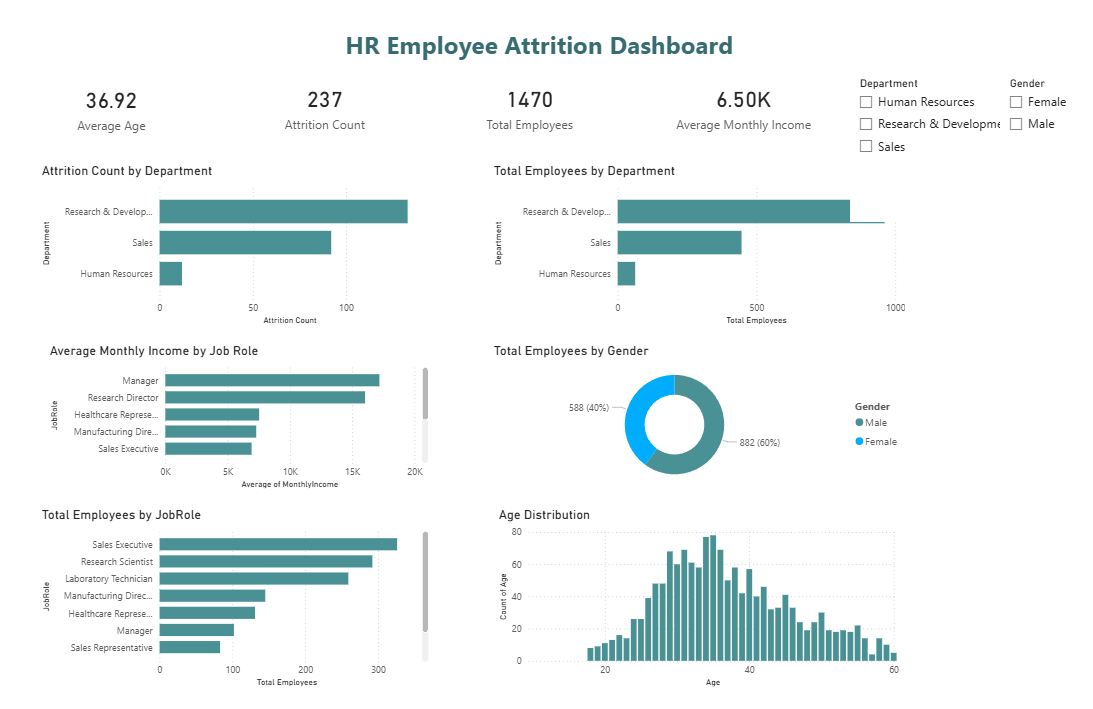

Layout of this report page (visuals, bound fields, positions):
{"tool":"powerbi","page":{"name":"Page 1","canvas":[1600,1100],"ordinal":0},"visuals":[{"type":"card","fields":{"Values":["WA_Fn-UseC_-HR-Employee-Attrition.Average Age"]},"box":[8.9,0,280,280],"z":0},{"type":"card","fields":{"Values":["WA_Fn-UseC_-HR-Employee-Attrition.Total Employees"]},"box":[559.6,0,280.9,279.8],"z":1000},{"type":"card","fields":{"Values":["WA_Fn-UseC_-HR-Employee-Attrition.Attrition Count"]},"box":[289.4,64.9,280.9,150],"z":2000},{"type":"card","fields":{"Values":["WA_Fn-UseC_-HR-Employee-Attrition.Average Monthly Income"]},"box":[840.4,64.9,280.9,150],"z":3000},{"type":"clusteredBarChart","fields":{"Category":["WA_Fn-UseC_-HR-Employee-Attrition.Department"],"Y":["WA_Fn-UseC_-HR-Employee-Attrition.Total Employees"]},"box":[647.1,214.3,551.4,217.1],"z":4000},{"type":"clusteredBarChart","fields":{"Category":["WA_Fn-UseC_-HR-Employee-Attrition.Department"],"Y":["WA_Fn-UseC_-HR-Employee-Attrition.Attrition Count"]},"box":[52.9,214.3,518.6,217.1],"z":5000},{"type":"clusteredBarChart","title":"Average  Monthly Income by Job Role","fields":{"Category":["WA_Fn-UseC_-HR-Employee-Attrition.JobRole"],"Y":["Avg(WA_Fn-UseC_-HR-Employee-Attrition.MonthlyIncome)"]},"box":[63.2,451.3,507.9,196.1],"z":6000},{"type":"donutChart","fields":{"Category":["WA_Fn-UseC_-HR-Employee-Attrition.Gender"],"Y":["WA_Fn-UseC_-HR-Employee-Attrition.Total Employees"]},"box":[647.1,451.4,551.4,195.7],"z":7000},{"type":"columnChart","title":"Age Distribution","fields":{"Y":["CountNonNull(WA_Fn-UseC_-HR-Employee-Attrition.Age)"],"Category":["WA_Fn-UseC_-HR-Employee-Attrition.Age"]},"box":[654.3,667.1,537.1,241.4],"z":8000},{"type":"clusteredBarChart","fields":{"Category":["WA_Fn-UseC_-HR-Employee-Attrition.JobRole"],"Y":["WA_Fn-UseC_-HR-Employee-Attrition.Total Employees"]},"box":[52.9,667.1,518.6,241.4],"z":9000},{"type":"textbox","box":[321.1,31.6,651.3,64.5],"z":10000},{"type":"textbox","box":[1131.1,215.6,281.1,74.4],"z":11000},{"type":"slicer","fields":{"Values":["WA_Fn-UseC_-HR-Employee-Attrition.Department"]},"box":[1121.1,96.1,281.6,196.1],"z":11001},{"type":"slicer","fields":{"Values":["WA_Fn-UseC_-HR-Employee-Attrition.Gender"]},"box":[1318.4,96.1,281.6,197.4],"z":11002}]}

Visuals, with their boxes on the page's 1600x1100 design canvas (x1, y1, x2, y2). These are canvas units, not pixel positions in the 1093x709 screenshot, which may show the page scaled, cropped or inside an application window:
card - WA_Fn-UseC_-HR-Employee-Attrition.Average Age: Rect(9, 0, 289, 280)
card - WA_Fn-UseC_-HR-Employee-Attrition.Total Employees: Rect(560, 0, 840, 280)
card - WA_Fn-UseC_-HR-Employee-Attrition.Attrition Count: Rect(289, 65, 570, 215)
card - WA_Fn-UseC_-HR-Employee-Attrition.Average Monthly Income: Rect(840, 65, 1121, 215)
clusteredBarChart - WA_Fn-UseC_-HR-Employee-Attrition.Department x WA_Fn-UseC_-HR-Employee-Attrition.Total Employees: Rect(647, 214, 1198, 431)
clusteredBarChart - WA_Fn-UseC_-HR-Employee-Attrition.Department x WA_Fn-UseC_-HR-Employee-Attrition.Attrition Count: Rect(53, 214, 572, 431)
"Average  Monthly Income by Job Role" clusteredBarChart: Rect(63, 451, 571, 647)
donutChart - WA_Fn-UseC_-HR-Employee-Attrition.Gender x WA_Fn-UseC_-HR-Employee-Attrition.Total Employees: Rect(647, 451, 1198, 647)
"Age Distribution" columnChart: Rect(654, 667, 1191, 908)
clusteredBarChart - WA_Fn-UseC_-HR-Employee-Attrition.JobRole x WA_Fn-UseC_-HR-Employee-Attrition.Total Employees: Rect(53, 667, 572, 908)
textbox: Rect(321, 32, 972, 96)
textbox: Rect(1131, 216, 1412, 290)
slicer - WA_Fn-UseC_-HR-Employee-Attrition.Department: Rect(1121, 96, 1403, 292)
slicer - WA_Fn-UseC_-HR-Employee-Attrition.Gender: Rect(1318, 96, 1600, 294)
